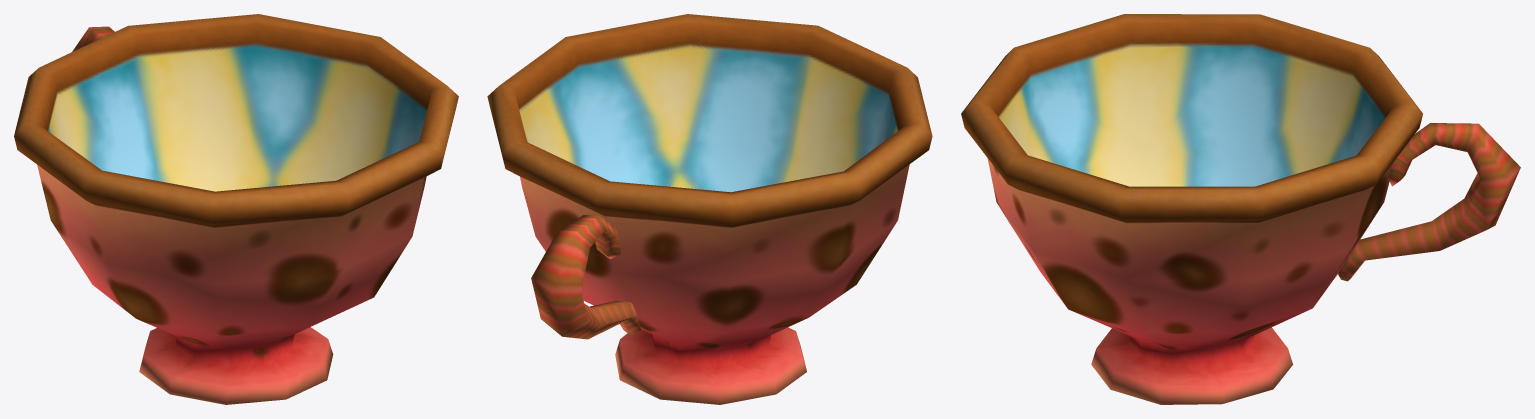
File: Teacup_MAD_HATTER.dae
3 renders of one model, left to right at view 1: azimuth 30°, elevation 25°; view 2: azimuth 150°, elevation 25°; view 3: azimuth 270°, elevation 25°, orthographic.
Parts seen in each view (by area): view 1: mesh0; view 2: mesh0; view 3: mesh0.
Part boxes in pixels (bbox=[...]): mesh0: bbox=[14, 14, 458, 404]; mesh0: bbox=[487, 14, 932, 404]; mesh0: bbox=[961, 14, 1520, 404].
Bounding box in the file's own units: 0.2047 × 0.1379 × 0.2606.
